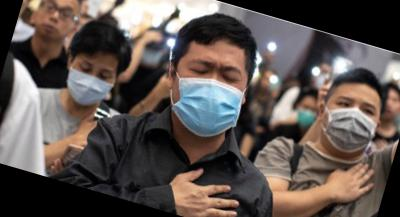with_mask: (161, 48, 251, 143), (312, 85, 385, 162), (59, 53, 119, 114), (139, 45, 167, 73), (295, 99, 320, 128)
without_mask: (378, 90, 400, 126)
